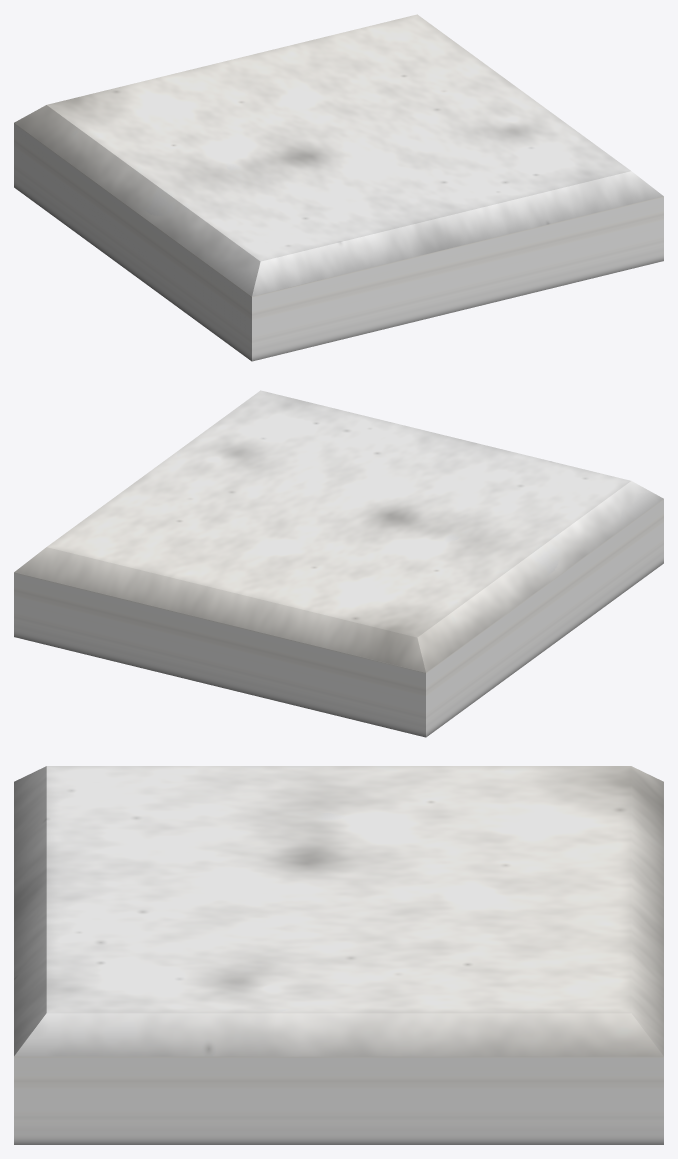
Rendered from tile_mud.glb.
The picture shows the model from 3 angles, top to bottom: view 1: azimuth 30°, elevation 25°; view 2: azimuth 150°, elevation 25°; view 3: azimuth 270°, elevation 25°; orthographic projection. The views are drawn at different scales.
Visible parts, largest first — view 1: tile; view 2: tile; view 3: tile.
Part boxes in pixels (bbox=[...]): tile: bbox=[14, 14, 663, 361]; tile: bbox=[14, 390, 663, 737]; tile: bbox=[14, 766, 663, 1144].
Size of the model in its own units: 1 by 0.2 by 1.
1 material, 1 textured.
